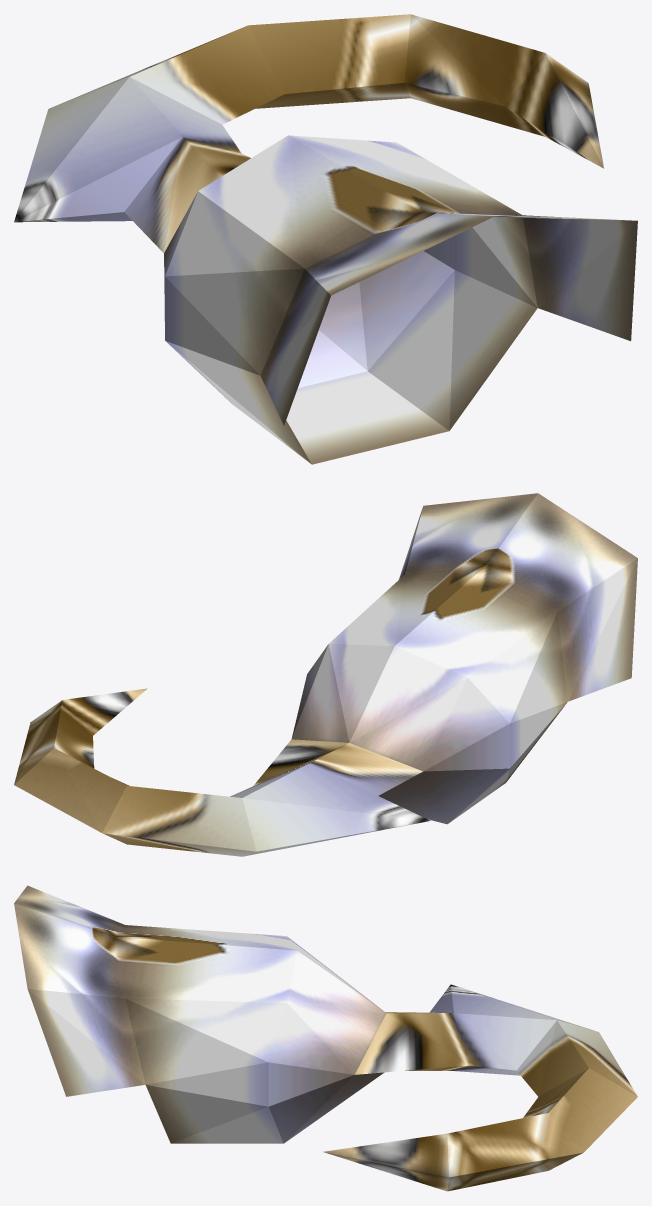
Rendered from twinblade103.obj.
The picture shows the model from 3 angles, top to bottom: view 1: azimuth 30°, elevation 25°; view 2: azimuth 150°, elevation 25°; view 3: azimuth 270°, elevation 25°; orthographic projection. The views are drawn at different scales.
Visible parts, largest first — view 1: MDL_cwdhkn03r; view 2: MDL_cwdhkn03r; view 3: MDL_cwdhkn03r.
Boxes of the visible parts, left/top/right/bottom form: MDL_cwdhkn03r: left=14, top=14, right=637, bottom=464; MDL_cwdhkn03r: left=14, top=493, right=637, bottom=856; MDL_cwdhkn03r: left=14, top=885, right=637, bottom=1191.
Bounding box in the file's own units: 0.3438 × 0.1774 × 0.4625.
